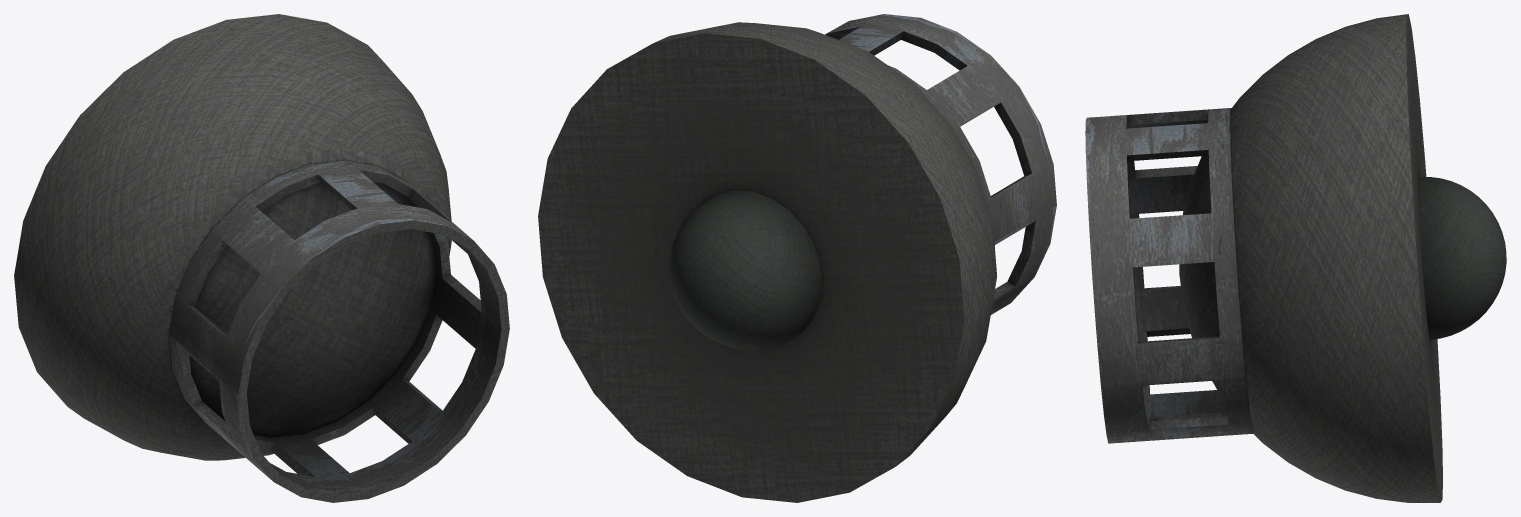
Rendered from plutonium_core.glb.
3 views of the same model, side by side, from view 1: azimuth 30°, elevation 25°; view 2: azimuth 150°, elevation 25°; view 3: azimuth 270°, elevation 25° (orthographic). The views are drawn at different scales.
Parts seen in each view (by area): view 1: plutonium_core.smd_0; view 2: plutonium_core.smd_0; view 3: plutonium_core.smd_0.
Part boxes in pixels (left/top/right/bottom): plutonium_core.smd_0: left=14, top=14, right=509, bottom=502; plutonium_core.smd_0: left=538, top=14, right=1056, bottom=502; plutonium_core.smd_0: left=1085, top=14, right=1506, bottom=502.
Size of the model in its own units: 11.55 by 11.52 by 9.89.
1 material, 1 textured.
